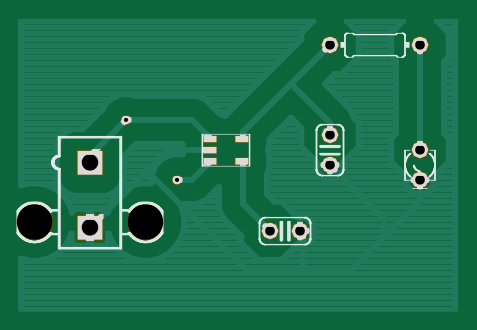LED: (404, 140, 436, 187)
capacitance: (314, 123, 345, 177), (257, 216, 312, 246)
power_supply: (16, 135, 165, 250)
regulation: (201, 134, 250, 166)
resistance: (321, 32, 429, 58)
